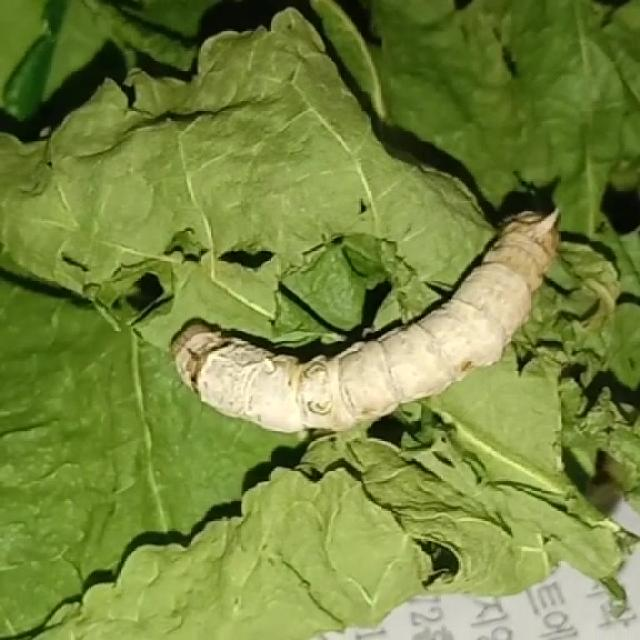Grasserie: (162, 200, 566, 443)
